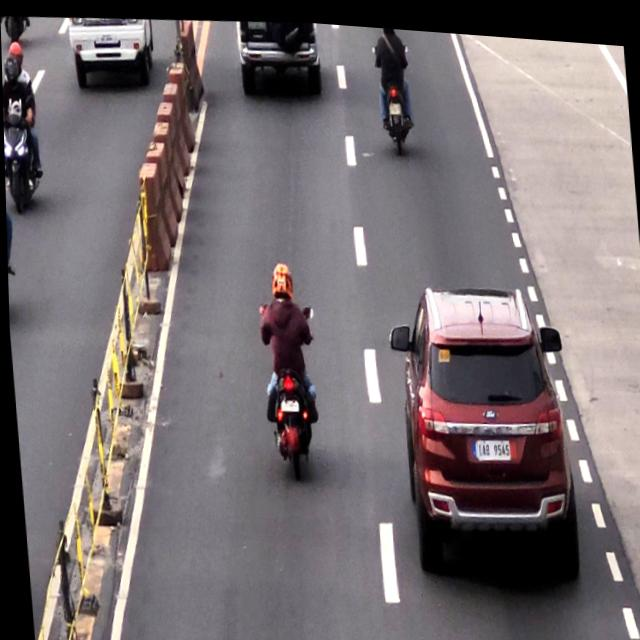Car: (394, 272, 565, 563), (235, 14, 328, 100)
License-Plate: (471, 430, 511, 461)
Motorcycle: (251, 253, 321, 488), (372, 22, 414, 155)
